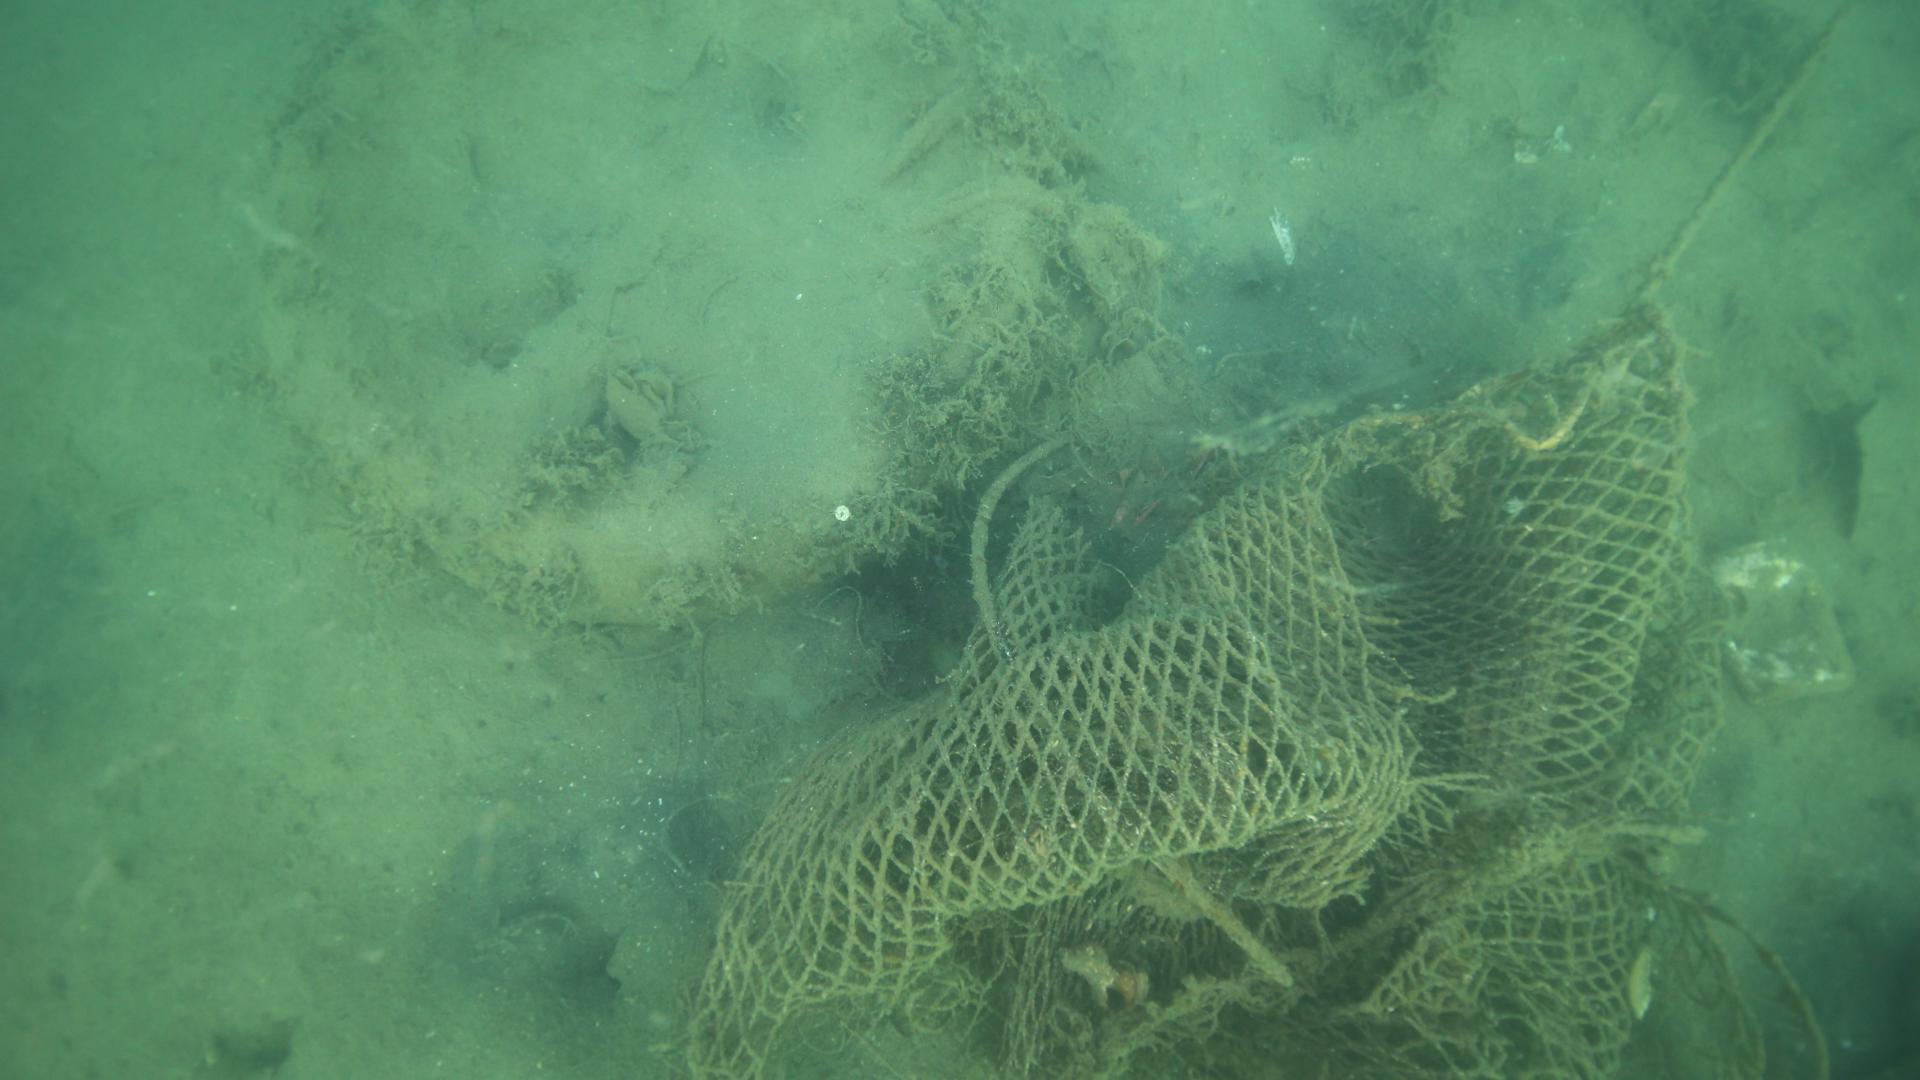fish net: (680, 320, 1730, 1080)
